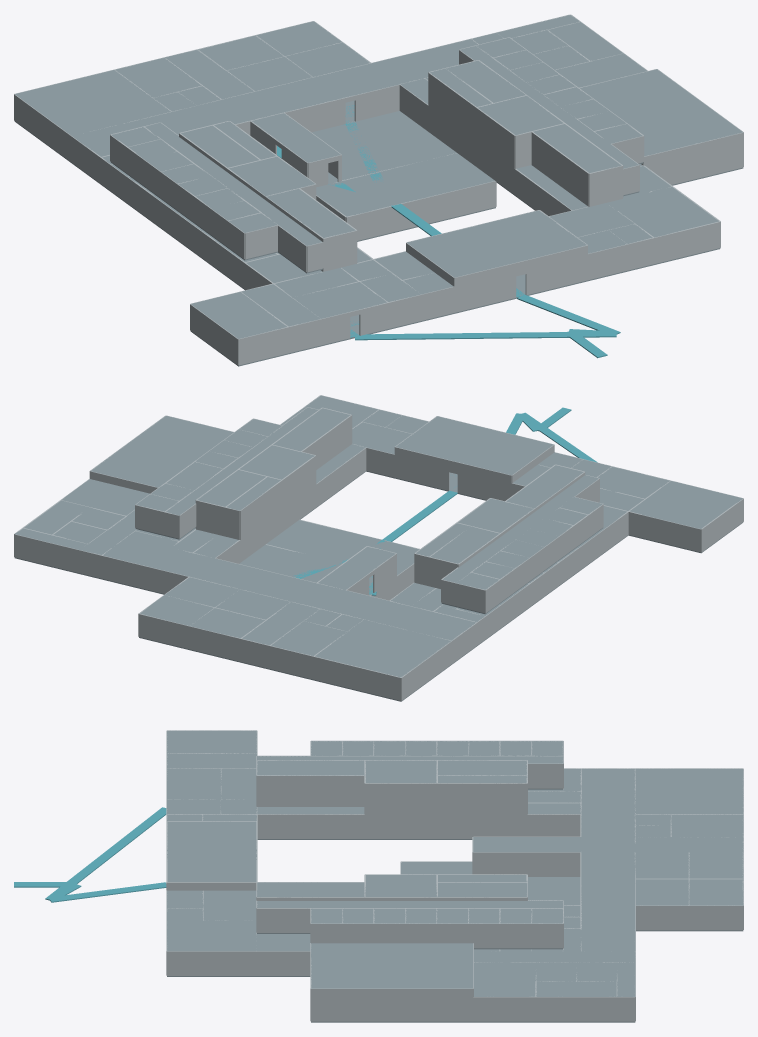
The model's file is prison-open-service.glb.
3 renders of one model, top to bottom at view 1: azimuth 30°, elevation 25°; view 2: azimuth 150°, elevation 25°; view 3: azimuth 270°, elevation 25°, orthographic. The views are drawn at different scales.
Parts seen in each view (by area): view 1: Ceiling cap cross, Ceiling cap chapel, Ceiling cap sally, Ceiling cap dining, Wall laundry S, Wall chapel S, Ceiling cap guard-link, Wall b-rear-bypass W, Ceiling cap a-upper-gallery, Wall b-dayhall W, Ceiling cap visitors, Wall sally S.001 (+63 smaller); view 2: Ceiling cap cross, Ceiling cap chapel, Ceiling cap sally, Ceiling cap dining, Wall b-rear-bypass W, Wall dining N, Ceiling cap a-upper-gallery, Wall cross N.002, Wall b-dayhall W, Ceiling cap visitors, Ceiling cap isolation-wash, Wall sally N.001 (+55 smaller); view 3: Ceiling cap cross, Ceiling cap chapel, Wall chapel E, Ceiling cap sally, Ceiling cap dining, Wall a-rear-bypass E, Wall a-dayhall E, Wall a-stair E, Ceiling cap guard-link, Wall a-front-aisle E, Wall plant-stair E, Wall guard-link E (+65 smaller).
Part boxes in pixels (bbox=[...]): Ceiling cap cross: bbox=[72, 39, 477, 156]; Ceiling cap chapel: bbox=[580, 69, 742, 156]; Ceiling cap sally: bbox=[407, 210, 586, 277]; Ceiling cap dining: bbox=[15, 70, 170, 136]; Wall laundry S: bbox=[346, 181, 496, 240]; Wall chapel S: bbox=[643, 132, 743, 184]; Ceiling cap guard-link: bbox=[607, 187, 718, 237]; Wall b-rear-bypass W: bbox=[428, 72, 476, 166]; Ceiling cap a-upper-gallery: bbox=[145, 122, 321, 245]; Wall b-dayhall W: bbox=[476, 107, 515, 194]; Ceiling cap visitors: bbox=[191, 292, 286, 338]; Wall sally S.001: bbox=[525, 245, 587, 295]; Ceiling cap cross: bbox=[103, 537, 476, 640]; Ceiling cap chapel: bbox=[91, 416, 233, 487]; Ceiling cap sally: bbox=[396, 416, 553, 475]; Ceiling cap dining: bbox=[315, 619, 450, 677]; Wall b-rear-bypass W: bbox=[240, 480, 282, 562]; Wall dining N: bbox=[313, 656, 401, 700]; Ceiling cap a-upper-gallery: bbox=[443, 475, 598, 582]; Wall cross N.002: bbox=[101, 555, 301, 604]; Wall b-dayhall W: bbox=[282, 455, 316, 531]; Ceiling cap visitors: bbox=[658, 488, 742, 528]; Ceiling cap isolation-wash: bbox=[62, 479, 149, 515]; Wall sally N.001: bbox=[395, 447, 449, 490]; Ceiling cap cross: bbox=[581, 768, 635, 951]; Ceiling cap chapel: bbox=[311, 943, 473, 988]; Wall chapel E: bbox=[311, 988, 473, 1021]; Ceiling cap sally: bbox=[167, 821, 256, 881]; Ceiling cap dining: bbox=[635, 768, 743, 814]; Wall a-rear-bypass E: bbox=[437, 783, 527, 838]; Wall a-dayhall E: bbox=[365, 783, 436, 838]; Wall a-stair E: bbox=[257, 775, 364, 806]; Ceiling cap guard-link: bbox=[167, 921, 256, 951]; Wall a-front-aisle E: bbox=[257, 814, 364, 838]; Wall plant-stair E: bbox=[473, 852, 580, 876]; Wall guard-link E: bbox=[167, 951, 256, 975].
Size of the model in its own units: 70.16 by 9.96 by 81.08.
